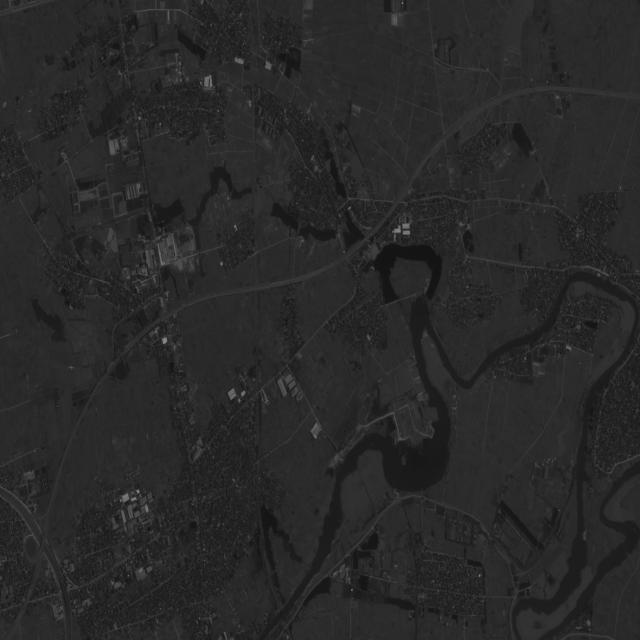plane: (68, 364, 75, 372)
storage-tank: (43, 487, 46, 490), (46, 487, 48, 490), (45, 483, 47, 486), (43, 484, 45, 487), (42, 479, 44, 481), (45, 478, 46, 481)
